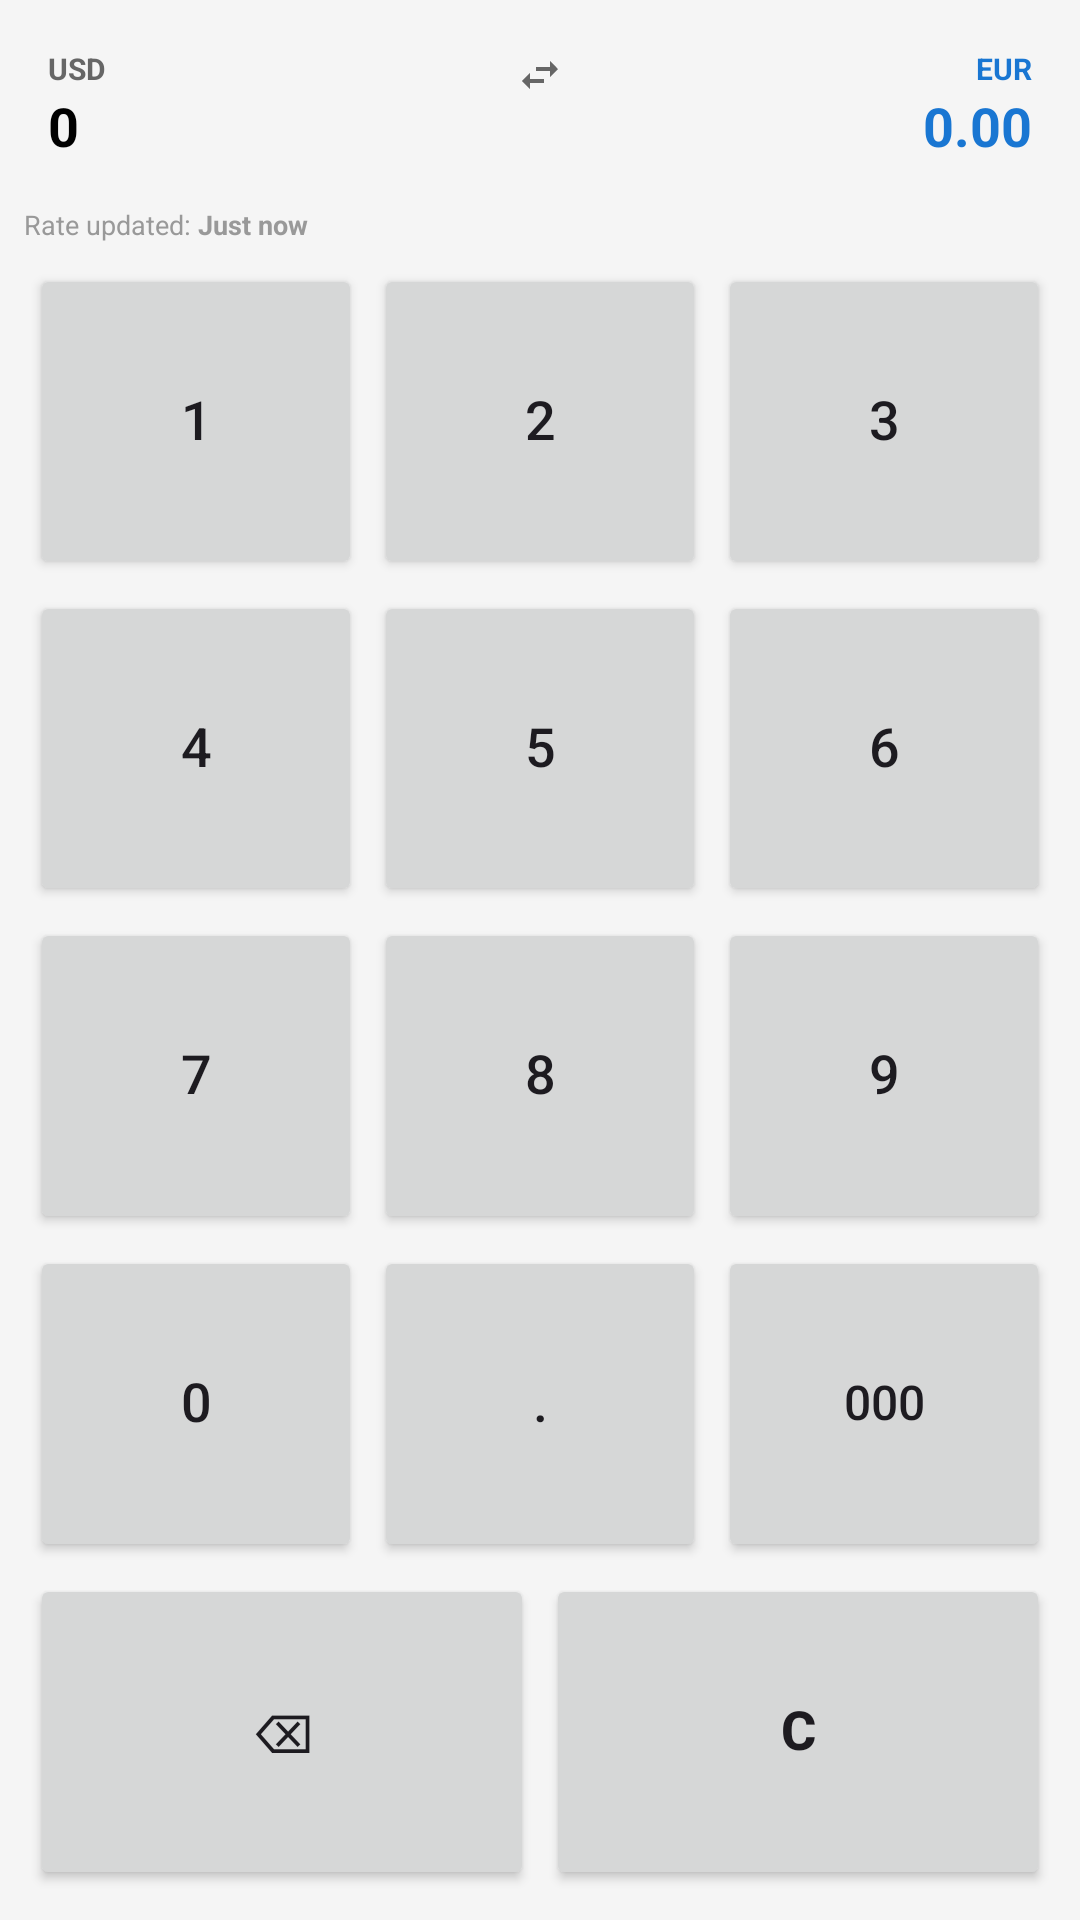

Icons on this 1080×1920 Android screen, each with the point to tap as (x=x, y=y):
Swap currencies: (x=540, y=75)
